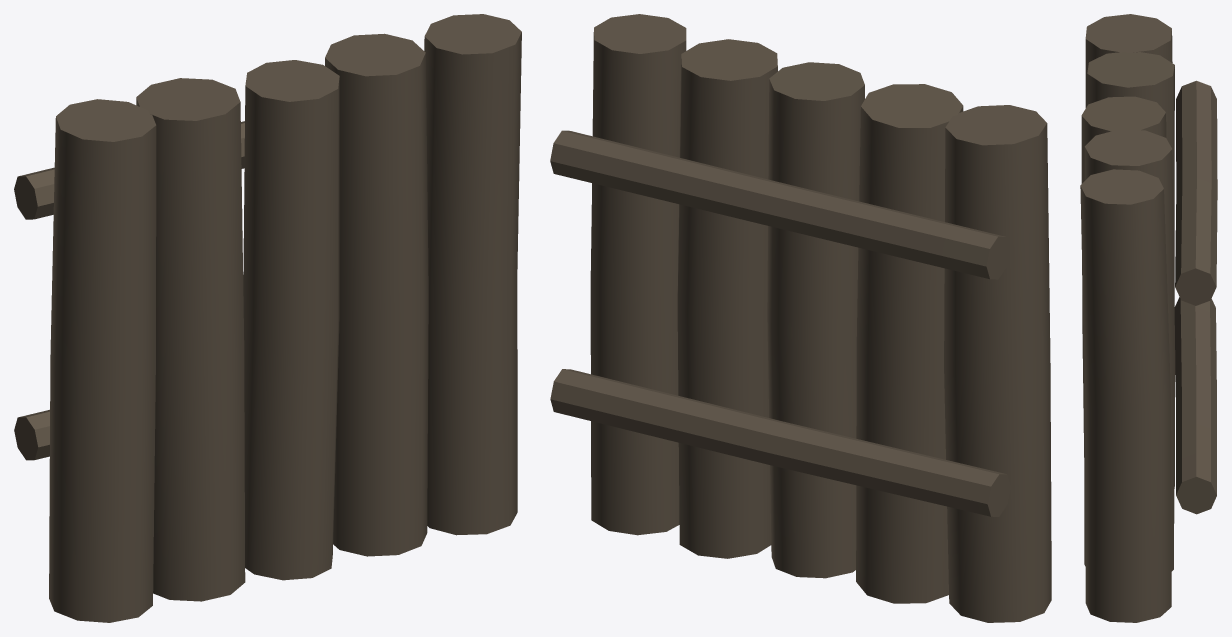
The model's file is bruestung_holz_10_1m.glb.
The picture shows the model from 3 angles, left to right: view 1: azimuth 30°, elevation 25°; view 2: azimuth 150°, elevation 25°; view 3: azimuth 270°, elevation 25°; orthographic projection. The views are drawn at different scales.
Parts seen in each view (by area): view 1: bruestung_holz_10_1m; view 2: bruestung_holz_10_1m; view 3: bruestung_holz_10_1m.
Boxes of the visible parts, <box> form: bruestung_holz_10_1m: <box>14,14,521,622</box>; bruestung_holz_10_1m: <box>550,14,1051,622</box>; bruestung_holz_10_1m: <box>1080,14,1217,622</box>.
Bounding box in the file's own units: 0.9904 × 1.01 × 0.2976.
